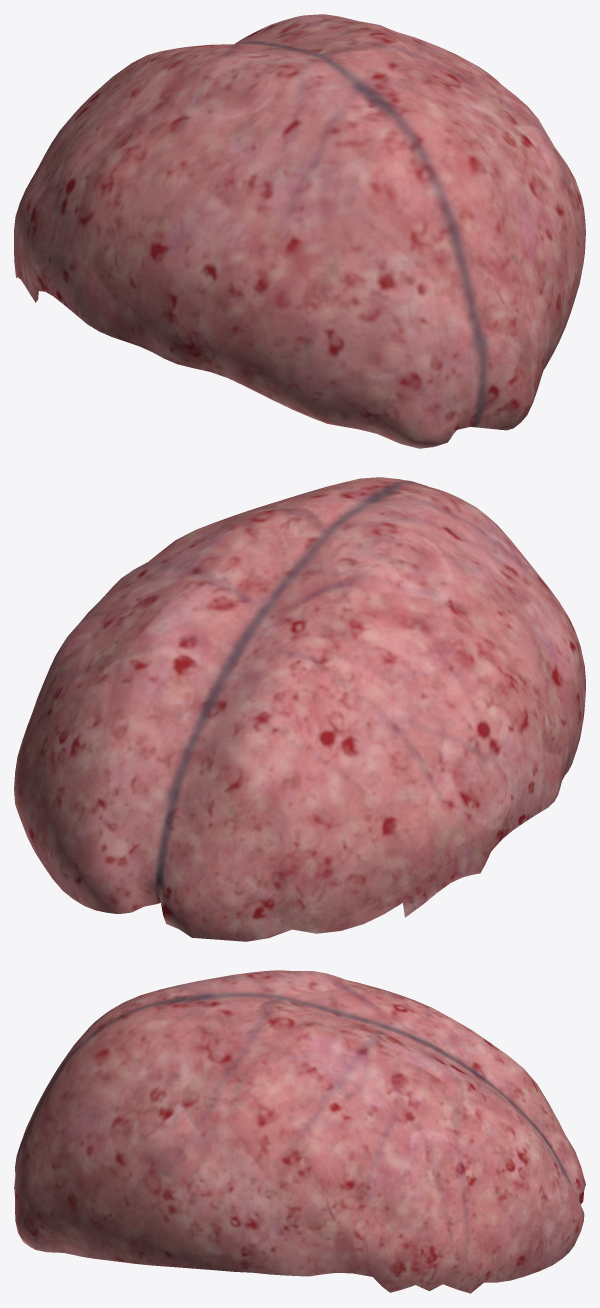
File: Bebe_Duramadre.fbx
3 renders of one model, top to bottom at view 1: azimuth 30°, elevation 25°; view 2: azimuth 150°, elevation 25°; view 3: azimuth 270°, elevation 25°, orthographic. The views are drawn at different scales.
Visible parts, largest first — view 1: Dura_Madre; view 2: Dura_Madre; view 3: Dura_Madre.
Part boxes in pixels (x1=…): Dura_Madre: x1=14, y1=14, x2=585, y2=448; Dura_Madre: x1=14, y1=477, x2=585, y2=941; Dura_Madre: x1=14, y1=970, x2=585, y2=1293.
Size of the model in its own units: 8.92 by 5.22 by 11.41.
